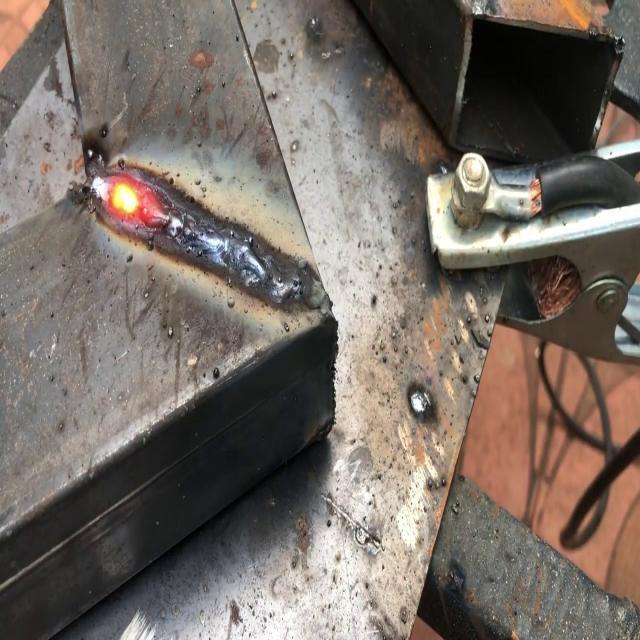Bad Welding: (88, 151, 324, 307)
